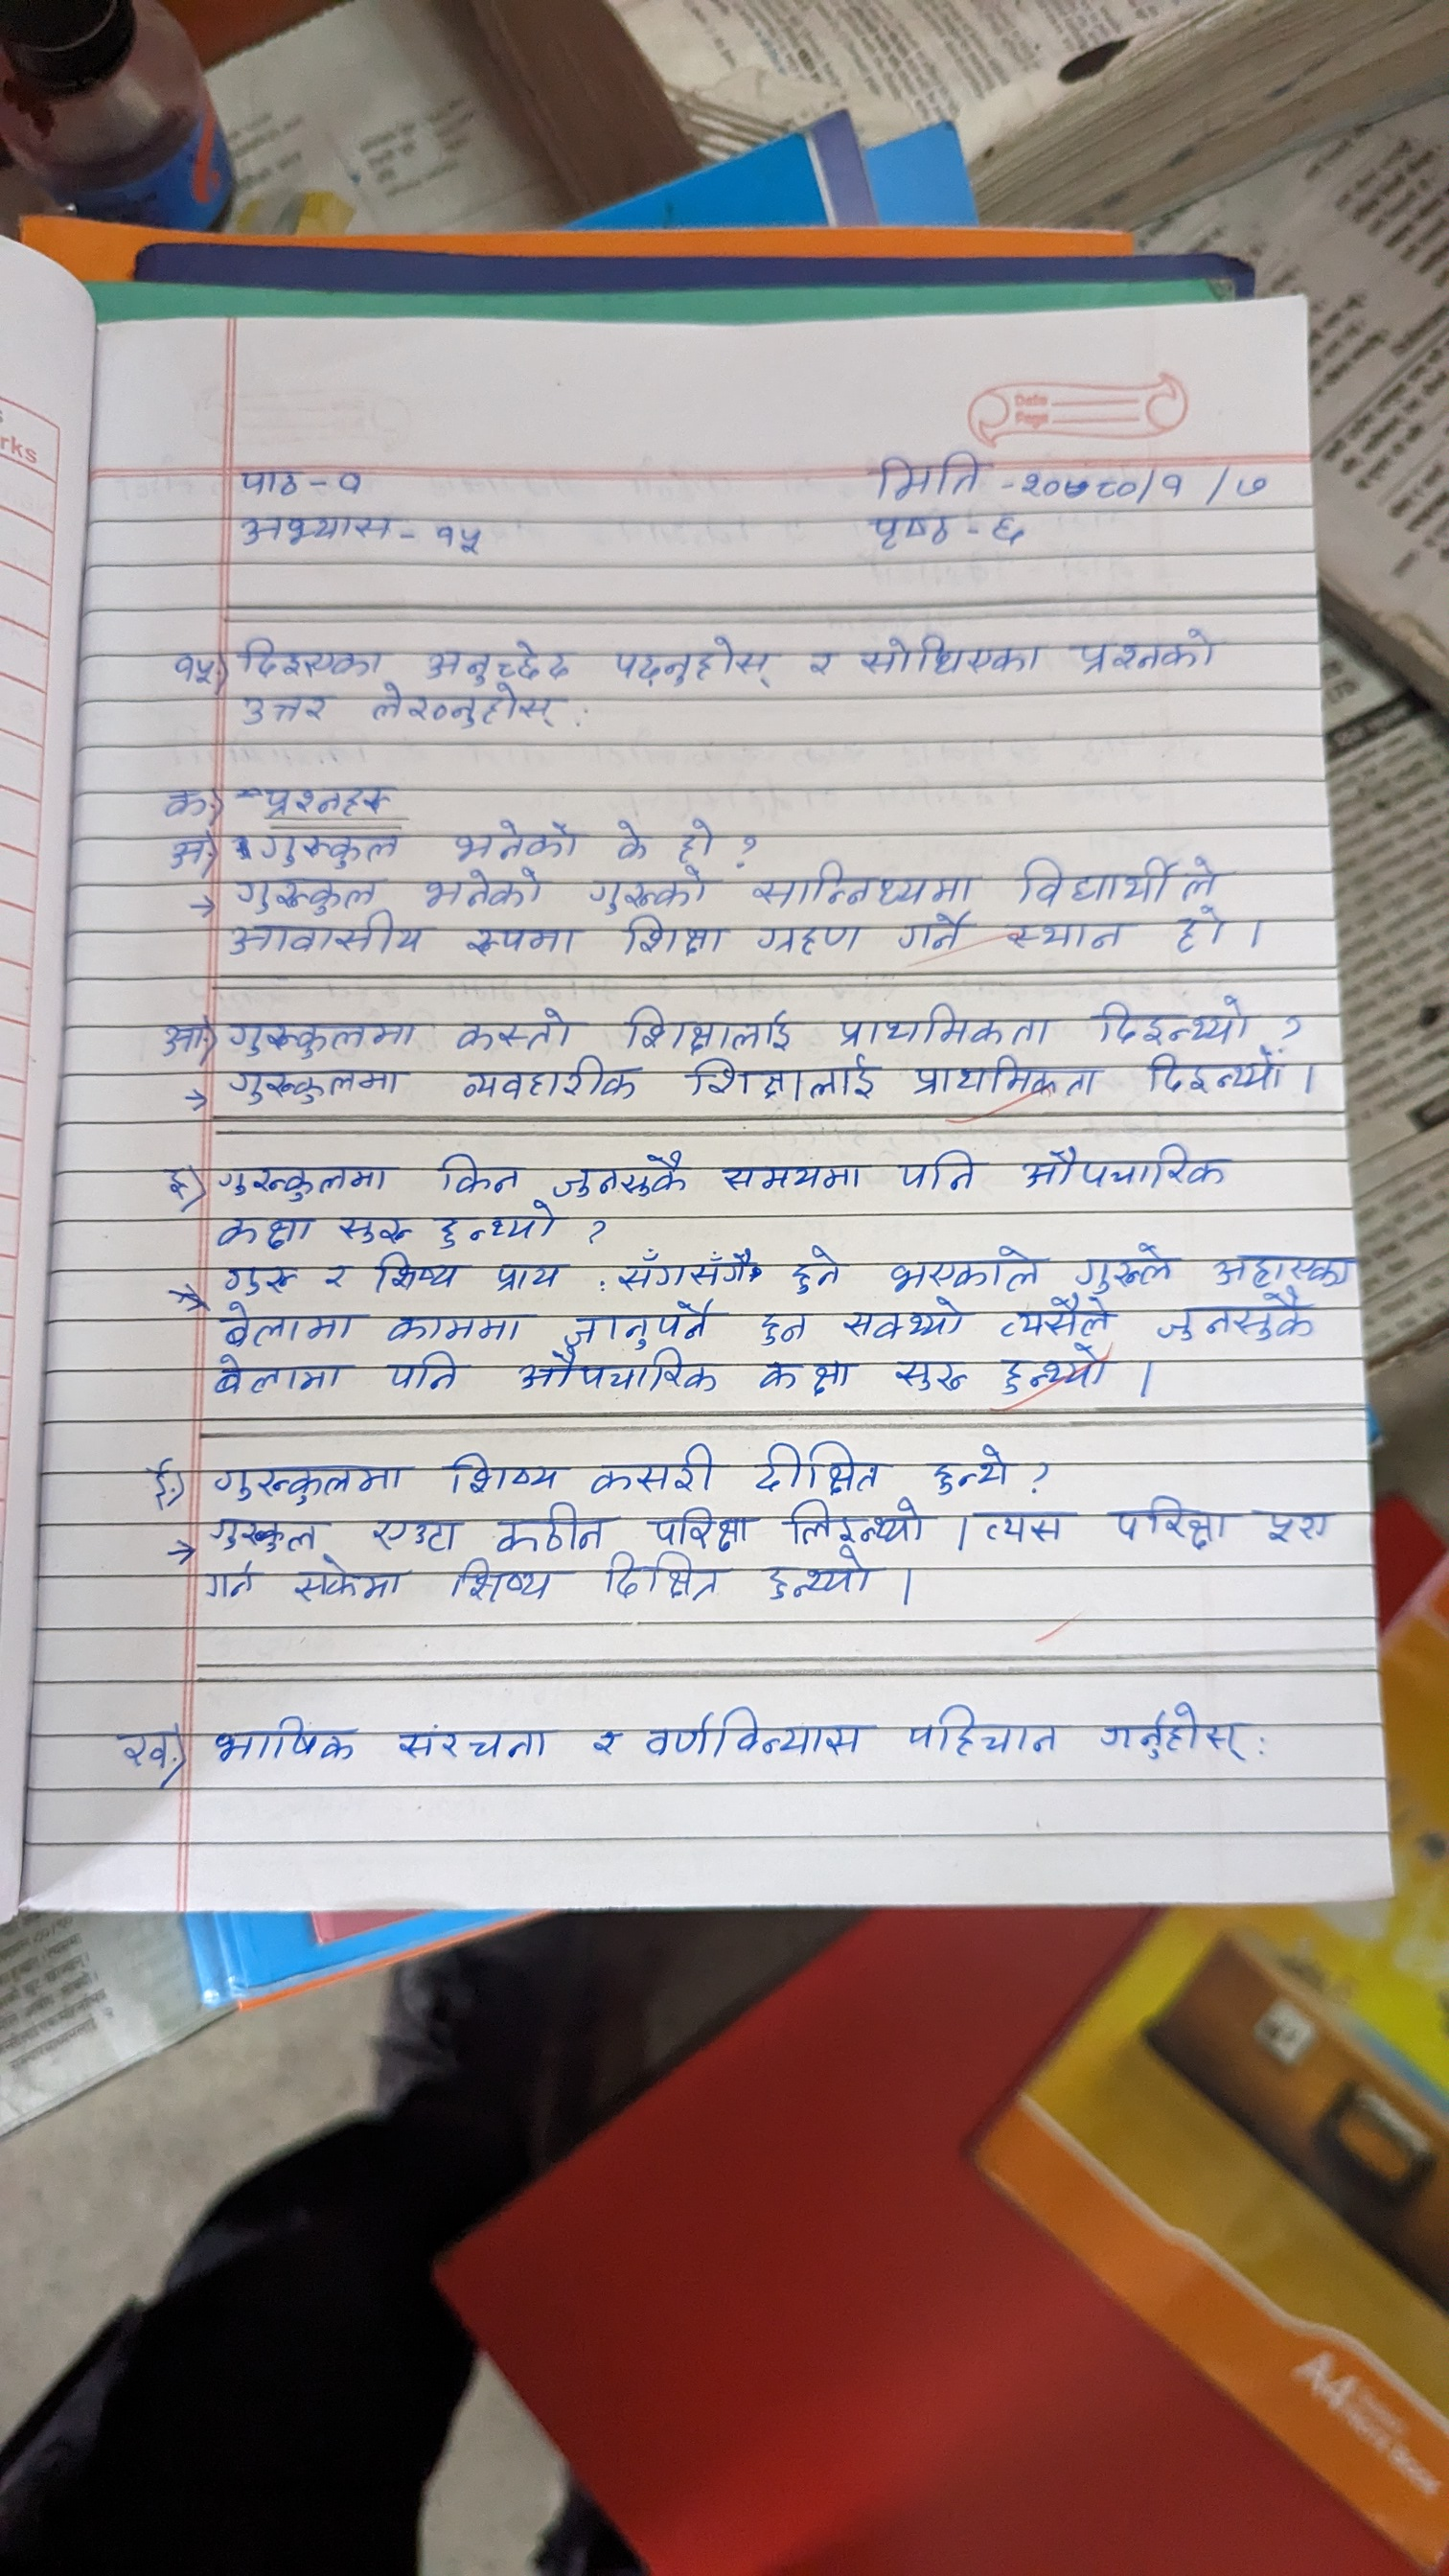text: (640, 1698, 876, 1767), (603, 619, 778, 699), (1083, 1704, 1267, 1769), (897, 1695, 1067, 1764), (828, 1001, 1053, 1051), (750, 856, 973, 906), (1016, 851, 1223, 904), (517, 1352, 722, 1401), (856, 630, 1047, 683), (205, 1456, 414, 1504), (1017, 1145, 1233, 1191), (679, 1060, 883, 1108), (621, 996, 793, 1053), (911, 1054, 1106, 1104), (456, 1056, 642, 1108), (212, 1713, 363, 1775), (363, 685, 563, 731), (878, 1240, 1049, 1293), (1083, 993, 1253, 1044), (225, 916, 418, 961), (1159, 1295, 1323, 1346), (1136, 1051, 1284, 1106), (387, 1718, 554, 1766), (1063, 625, 1221, 674), (421, 633, 575, 683), (1106, 1491, 1231, 1552), (1201, 1240, 1353, 1290), (219, 1159, 389, 1203), (996, 1346, 1123, 1405), (225, 1065, 403, 1106), (232, 1016, 418, 1054), (782, 1499, 936, 1545), (587, 1440, 717, 1493), (755, 1437, 885, 1490), (862, 442, 984, 497), (239, 630, 382, 676), (207, 1304, 356, 1348), (228, 510, 396, 548), (449, 812, 580, 862), (563, 1302, 715, 1345), (612, 1244, 752, 1290), (552, 1150, 686, 1196), (433, 1203, 568, 1249), (715, 1154, 869, 1192), (205, 1353, 345, 1396), (764, 1553, 883, 1603), (283, 1560, 410, 1606), (1072, 1235, 1178, 1290), (260, 778, 396, 821), (839, 1297, 964, 1343), (262, 830, 398, 870), (598, 1557, 718, 1603), (421, 867, 550, 909), (437, 1451, 566, 1493), (230, 876, 377, 913), (994, 1299, 1122, 1341), (451, 1007, 573, 1051), (591, 865, 708, 911), (1003, 915, 1125, 957), (488, 1509, 607, 1552), (382, 1309, 524, 1345), (621, 911, 722, 961), (1017, 462, 1134, 504), (441, 1560, 559, 1601), (462, 920, 579, 961), (925, 1440, 1021, 1490), (757, 1353, 858, 1399), (432, 1141, 520, 1192), (752, 920, 867, 959), (646, 1506, 745, 1550), (971, 1504, 1067, 1548), (373, 1251, 464, 1297), (384, 1352, 467, 1401), (211, 1214, 317, 1251), (203, 1514, 320, 1548), (1258, 1500, 1336, 1550), (867, 504, 952, 548), (892, 1355, 975, 1398), (897, 1146, 977, 1191), (119, 1720, 177, 1780), (893, 913, 978, 954), (219, 1260, 303, 1299), (237, 694, 336, 725), (336, 1210, 418, 1247), (789, 1244, 849, 1293), (368, 1516, 460, 1548), (234, 458, 306, 497), (494, 1258, 566, 1297), (202, 1557, 262, 1603), (1171, 908, 1233, 952), (671, 809, 717, 860), (136, 1454, 180, 1506), (159, 777, 212, 819), (755, 1302, 809, 1345), (433, 520, 487, 559), (1228, 458, 1274, 502), (157, 1016, 207, 1056), (152, 1155, 195, 1200), (801, 637, 842, 683), (170, 649, 218, 686), (586, 1718, 628, 1759), (168, 826, 207, 869), (609, 816, 646, 860), (1159, 462, 1189, 513), (991, 511, 1031, 548), (320, 1263, 354, 1290), (333, 467, 366, 492)
